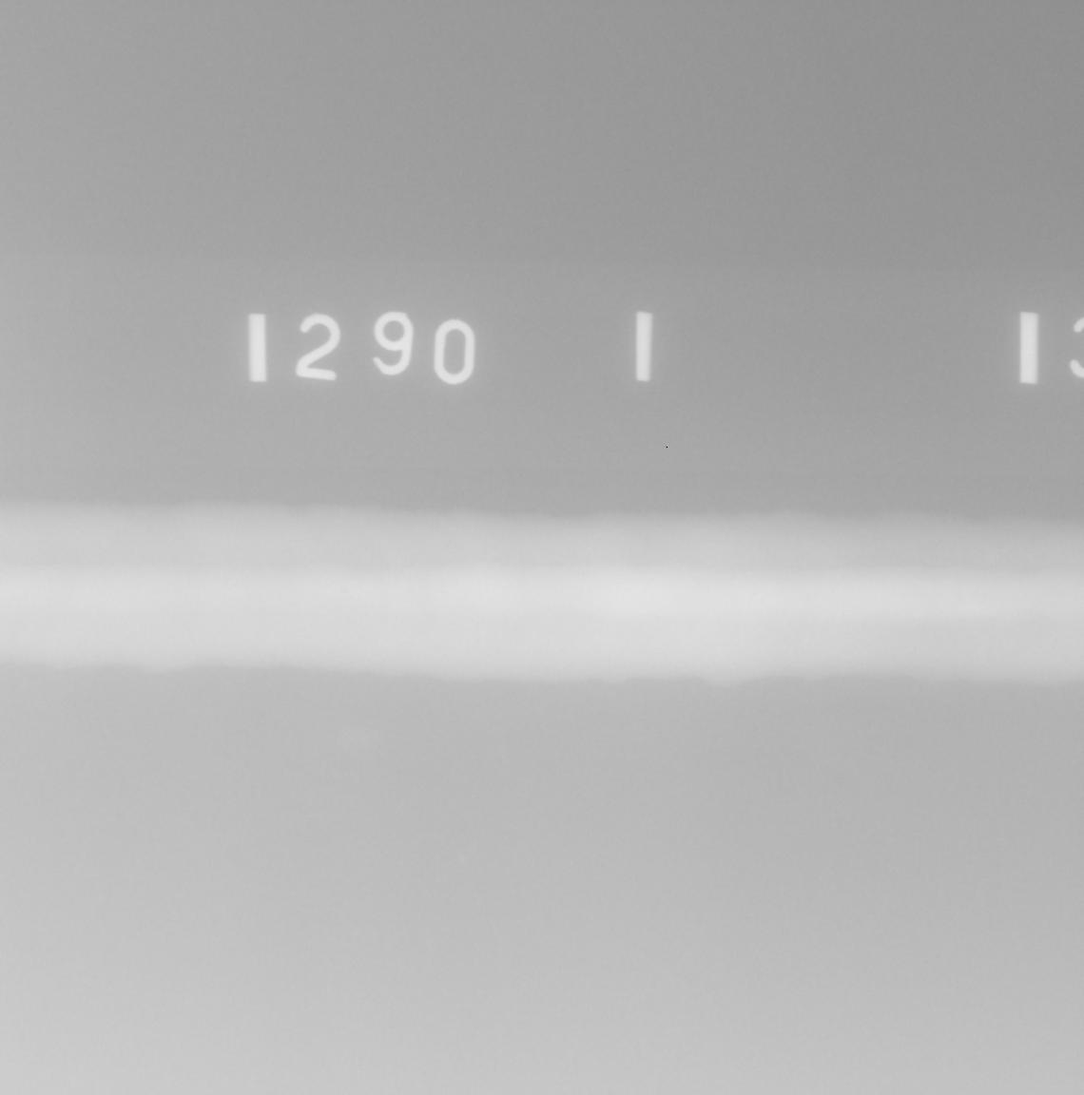Pore/Porosity: (341, 586, 349, 594)
